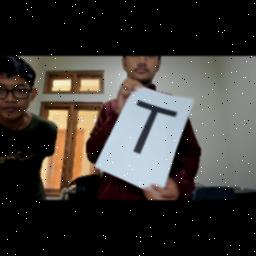t: (126, 94, 182, 166)
